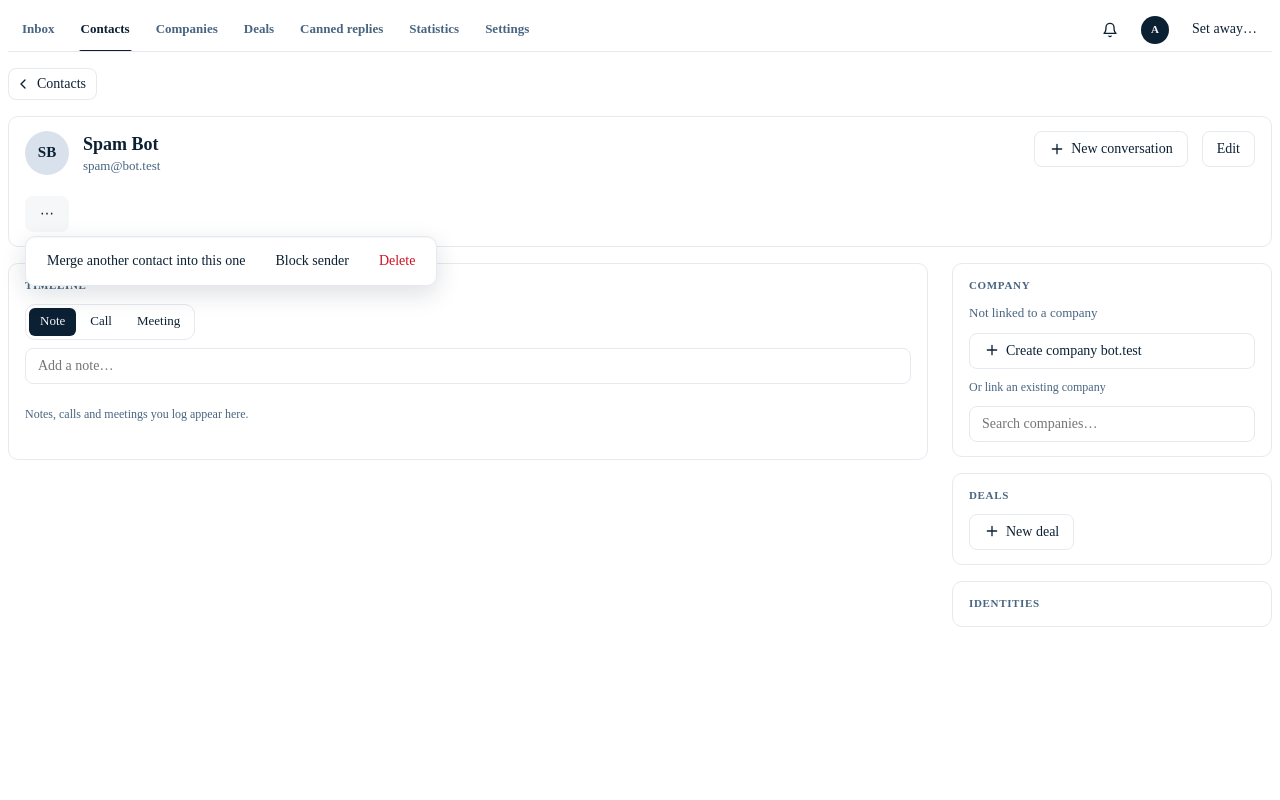
HelpdeskAdmin › blocks a sender from their contact page and marks them blocked
Click the button "Block sender": [312, 261] box [260,243,364,279]
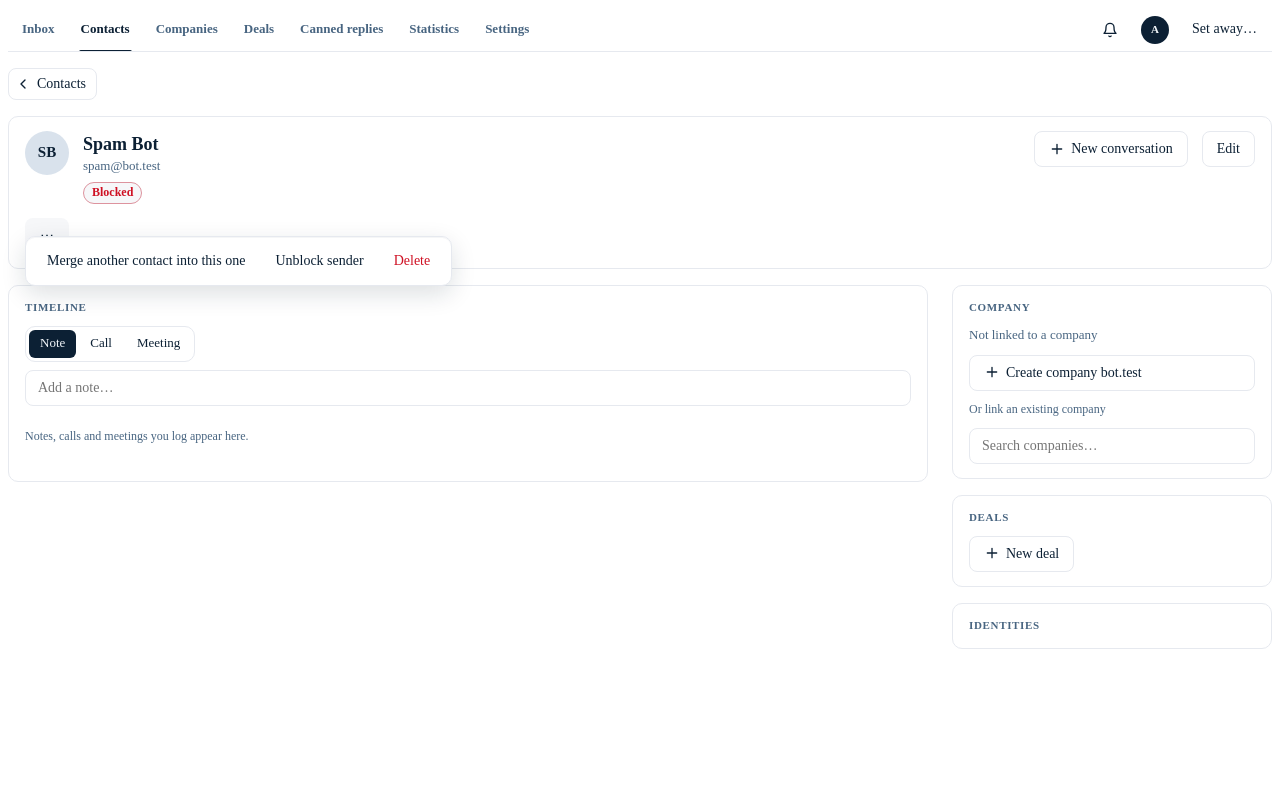
Expected: the text "Blocked" is shown, [83,182,142,204]
Expected: the button "Unblock sender" is shown, [260,243,379,279]
